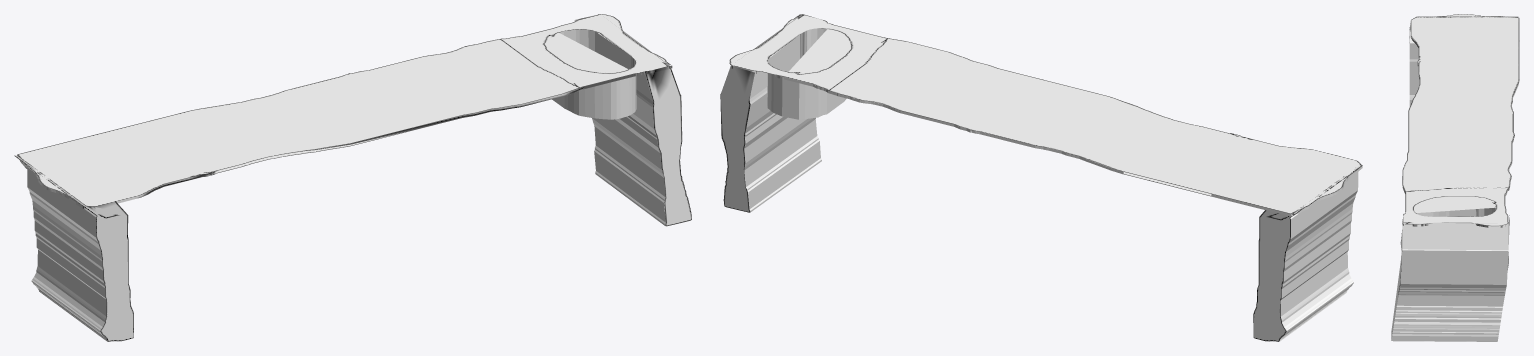
Rendered from sink.fbx.
The picture shows the model from 3 angles, left to right: view 1: azimuth 30°, elevation 25°; view 2: azimuth 150°, elevation 25°; view 3: azimuth 270°, elevation 25°; orthographic projection. The views are drawn at different scales.
Parts seen in each view (by area): view 1: Cube; view 2: Cube; view 3: Cube.
Boxes of the visible parts, left/top/right/bottom form: Cube: left=14, top=14, right=691, bottom=341; Cube: left=720, top=14, right=1362, bottom=341; Cube: left=1391, top=14, right=1519, bottom=341.
Bounding box in the file's own units: 495 × 120 × 123.
